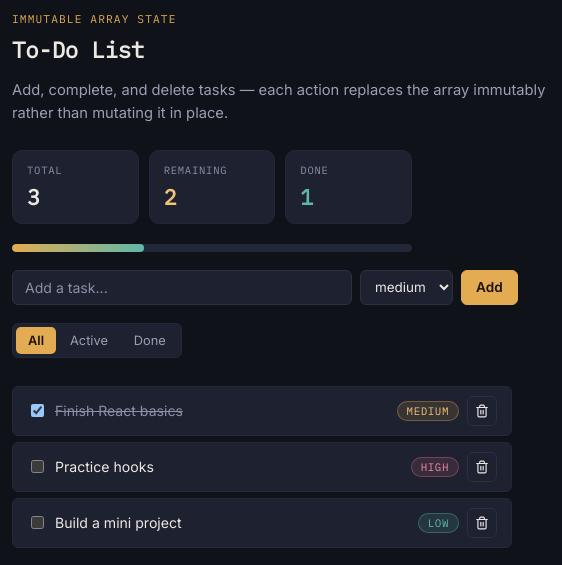
Test: Task8_TodoList › deletes a task
expect the text "Practice hooks" is shown: met, box [27, 457, 154, 476]
What coordinates should you click on to do the following:
click the button named "Delete task" next to "high"
I would click on:
 (482, 467)
Its box is [467, 452, 497, 482].
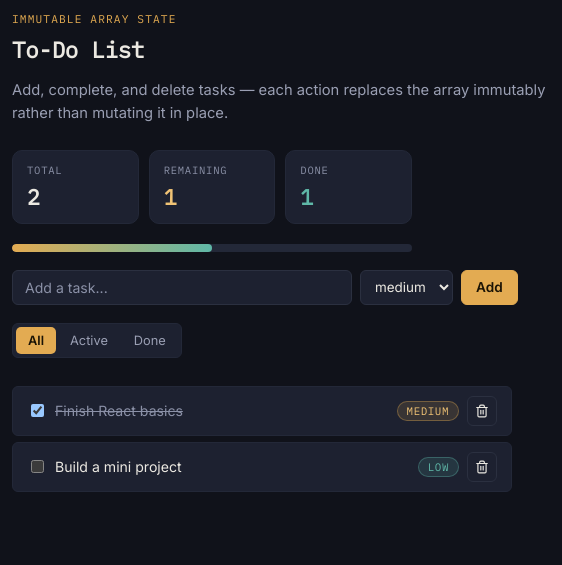
expect the text "Practice hooks" is gone: met
